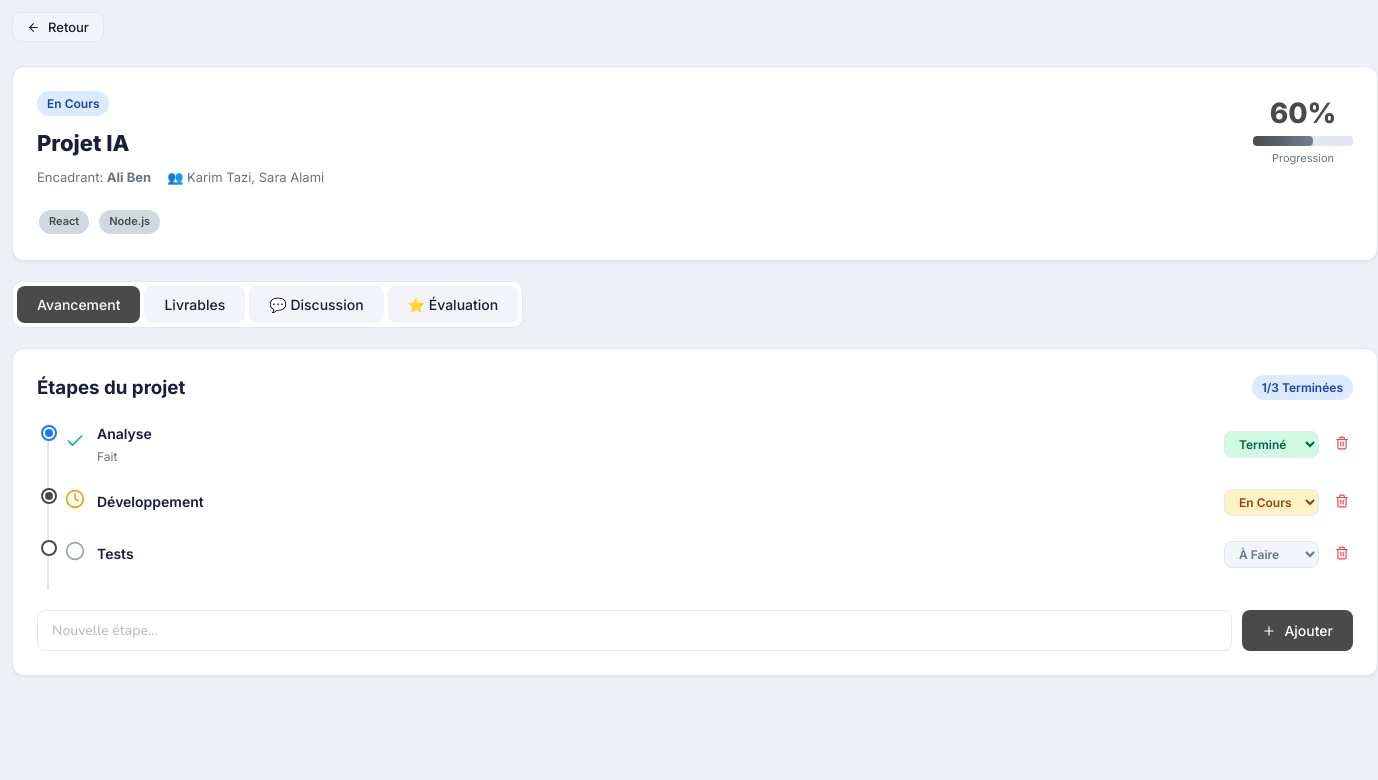
Test: ProjectDetailPage - Tabs Navigation › switches to Livrables tab
Expected: the heading "Projet IA" is shown, left=37, top=130, right=130, bottom=156
What coordinates should you click on to do the following:
click the button "Livrables"
I would click on:
 (195, 304)
Its box is left=144, top=286, right=245, bottom=323.
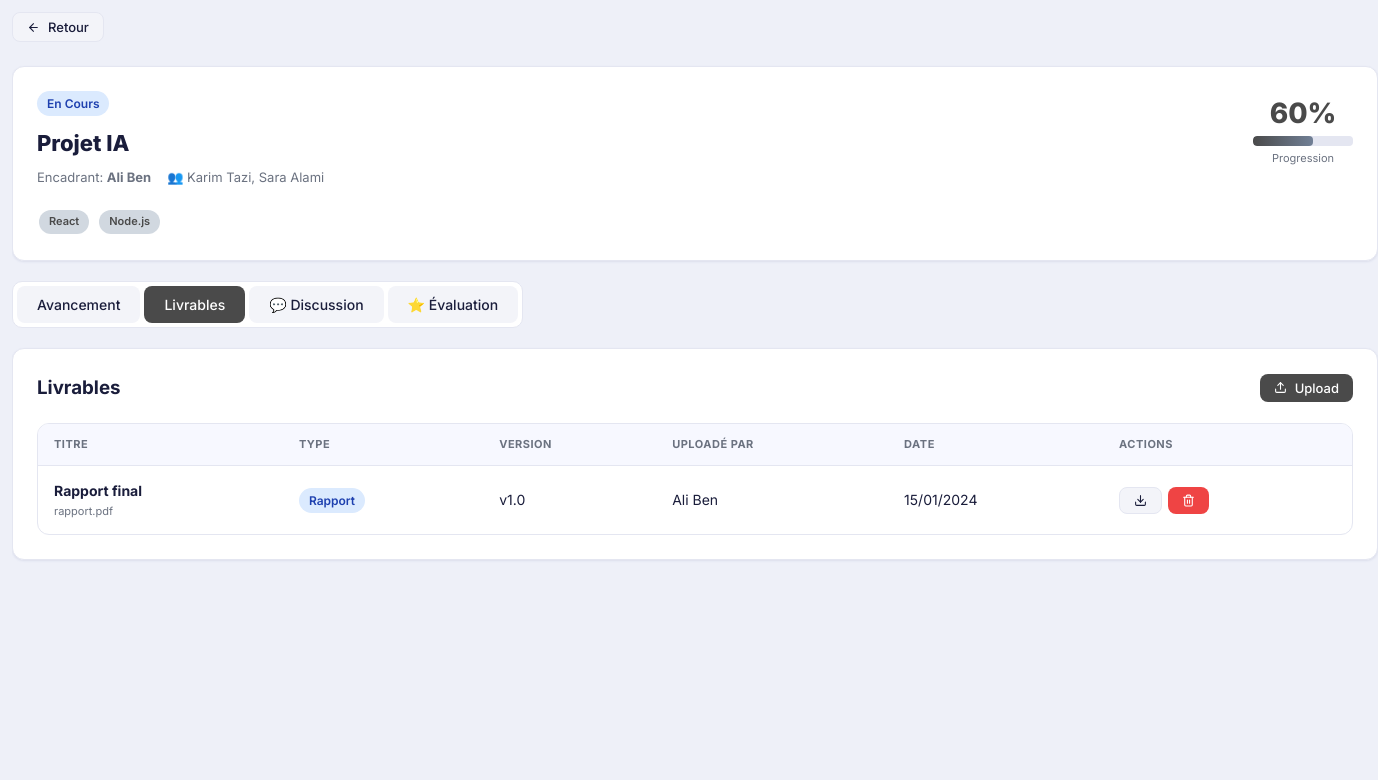
Expected: the text "Rapport final" is shown, left=54, top=482, right=142, bottom=499
